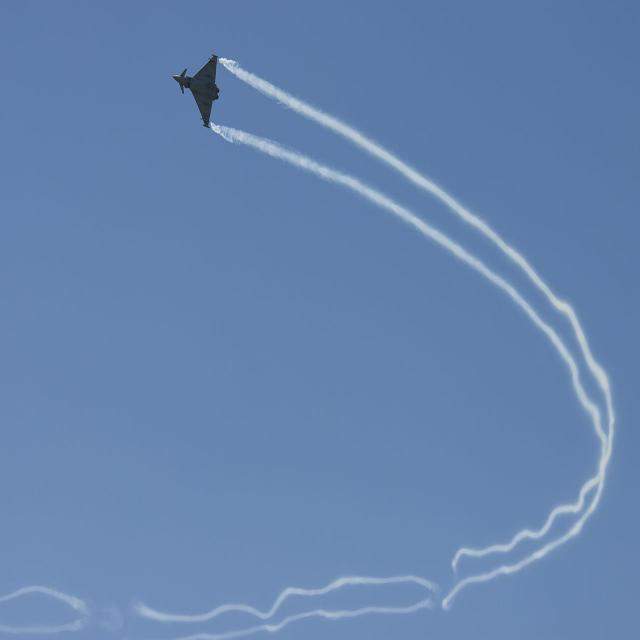MIL_Plane: (172, 54, 220, 128)
